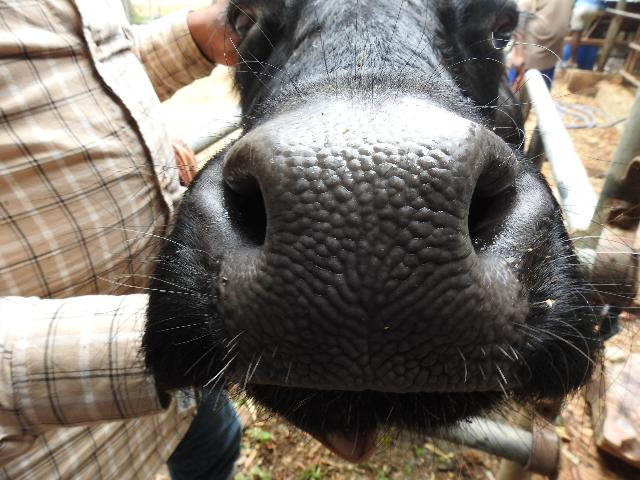Muzzle: (232, 132, 506, 382)
